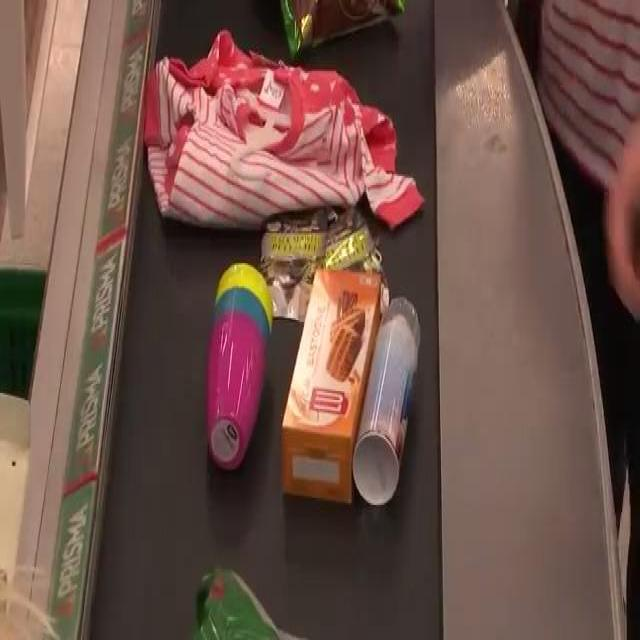food-box: (290, 252, 382, 511), (365, 290, 427, 514)
utility-box: (150, 53, 424, 233), (211, 269, 270, 471)
